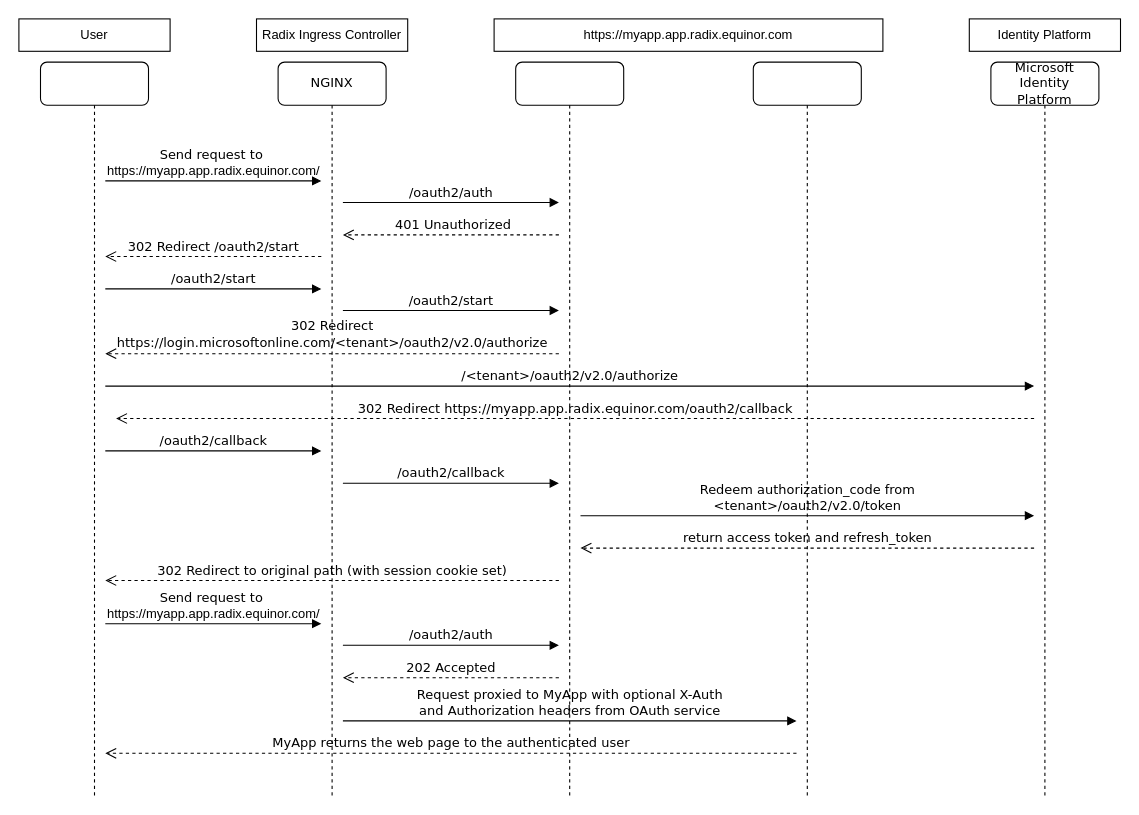
This 1139x815 diagram has some shape labels left out. The box of each missing label's shape, as (x1, y1, x2, y2) in pixels:
Browser: (39, 61, 148, 796)
MyApp: (752, 61, 861, 796)
OAuth service (/oauth2/*): (515, 61, 624, 796)
